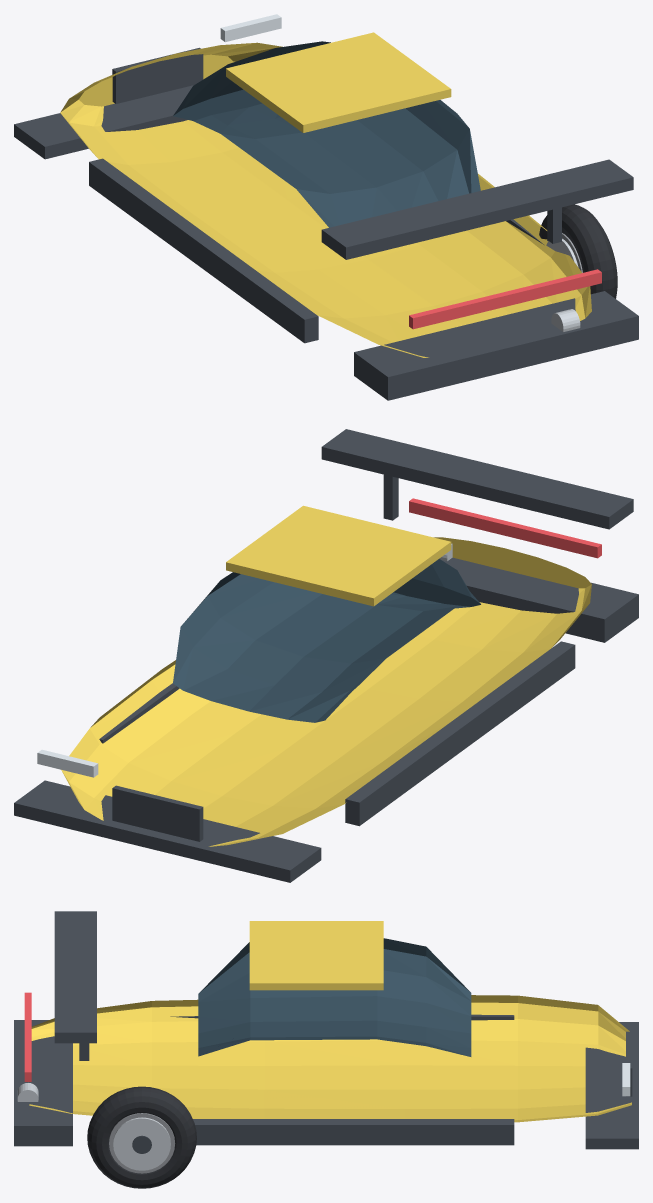
Rendered from rally_rs.glb.
3 renders of one model, top to bottom at view 1: azimuth 30°, elevation 25°; view 2: azimuth 150°, elevation 25°; view 3: azimuth 270°, elevation 25°, orthographic. The views are drawn at different scales.
Visible parts, largest first — view 1: Sculpted_unibody, Panoramic_glass_canopy, Rear_diffuser, Painted_roof_panel, Adjustable_aero_wing, Left_side_skirt, Carbon_front_splitter, Front_mesh_grille, Full_width_rear_LED, Performance_tyre, Front_LED_headlight; view 2: Sculpted_unibody, Panoramic_glass_canopy, Painted_roof_panel, Adjustable_aero_wing, Carbon_front_splitter, Left_side_skirt, Rear_diffuser, Front_mesh_grille, Full_width_rear_LED, Front_LED_headlight, Right_side_skirt, Wing_support; view 3: Sculpted_unibody, Panoramic_glass_canopy, Painted_roof_panel, Right_side_skirt, Rear_diffuser, Performance_tyre, Adjustable_aero_wing, Carbon_front_splitter, Forged_alloy_hub, Ventilated_brake_disc, Full_width_rear_LED.
Boxes of the visible parts, <box> form: Sculpted_unibody: <box>60,42,591,357</box>; Panoramic_glass_canopy: <box>173,41,480,227</box>; Rear_diffuser: <box>354,291,638,400</box>; Painted_roof_panel: <box>226,32,451,132</box>; Adjustable_aero_wing: <box>321,159,633,259</box>; Left_side_skirt: <box>89,158,318,343</box>; Carbon_front_splitter: <box>14,85,193,159</box>; Front_mesh_grille: <box>112,47,203,103</box>; Full_width_rear_LED: <box>409,269,601,329</box>; Performance_tyre: <box>539,204,617,298</box>; Front_LED_headlight: <box>220,14,281,42</box>; Sculpted_unibody: <box>61,537,591,846</box>; Panoramic_glass_canopy: <box>173,559,480,722</box>; Painted_roof_panel: <box>226,505,451,606</box>; Adjustable_aero_wing: <box>321,429,633,529</box>; Carbon_front_splitter: <box>14,780,321,882</box>; Left_side_skirt: <box>345,641,575,826</box>; Rear_diffuser: <box>441,557,638,642</box>; Front_mesh_grille: <box>112,785,203,841</box>; Full_width_rear_LED: <box>409,498,601,558</box>; Front_LED_headlight: <box>37,749,98,777</box>; Right_side_skirt: <box>99,683,179,743</box>; Wing_support: <box>383,474,398,520</box>; Sculpted_unibody: <box>29,995,631,1122</box>; Panoramic_glass_canopy: <box>198,938,471,1056</box>; Painted_roof_panel: <box>249,921,383,990</box>; Right_side_skirt: <box>193,1119,514,1145</box>; Rear_diffuser: <box>14,1020,72,1146</box>; Performance_tyre: <box>87,1086,196,1188</box>; Adjustable_aero_wing: <box>54,911,96,1043</box>; Carbon_front_splitter: <box>585,1022,638,1149</box>; Forged_alloy_hub: <box>113,1117,170,1170</box>; Ventilated_brake_disc: <box>109,1113,175,1173</box>; Full_width_rear_LED: <box>24,992,31,1081</box>.
Size of the model in its own units: 2.12 by 1.39 by 4.44.
